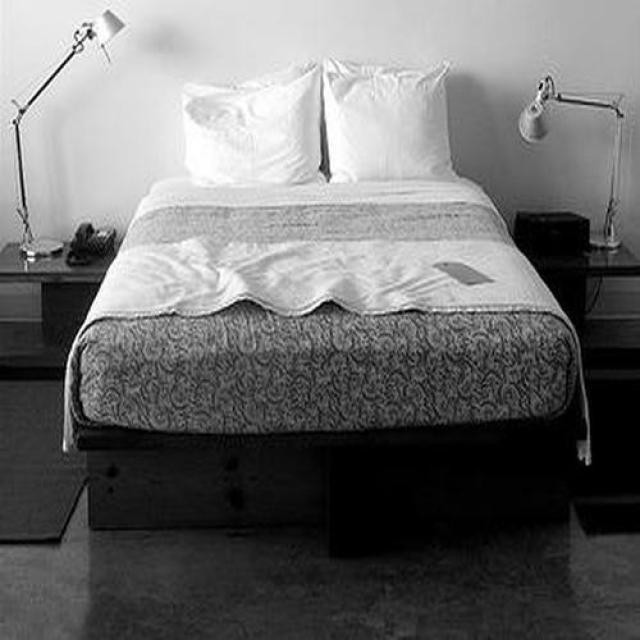bed: (64, 60, 591, 557)
